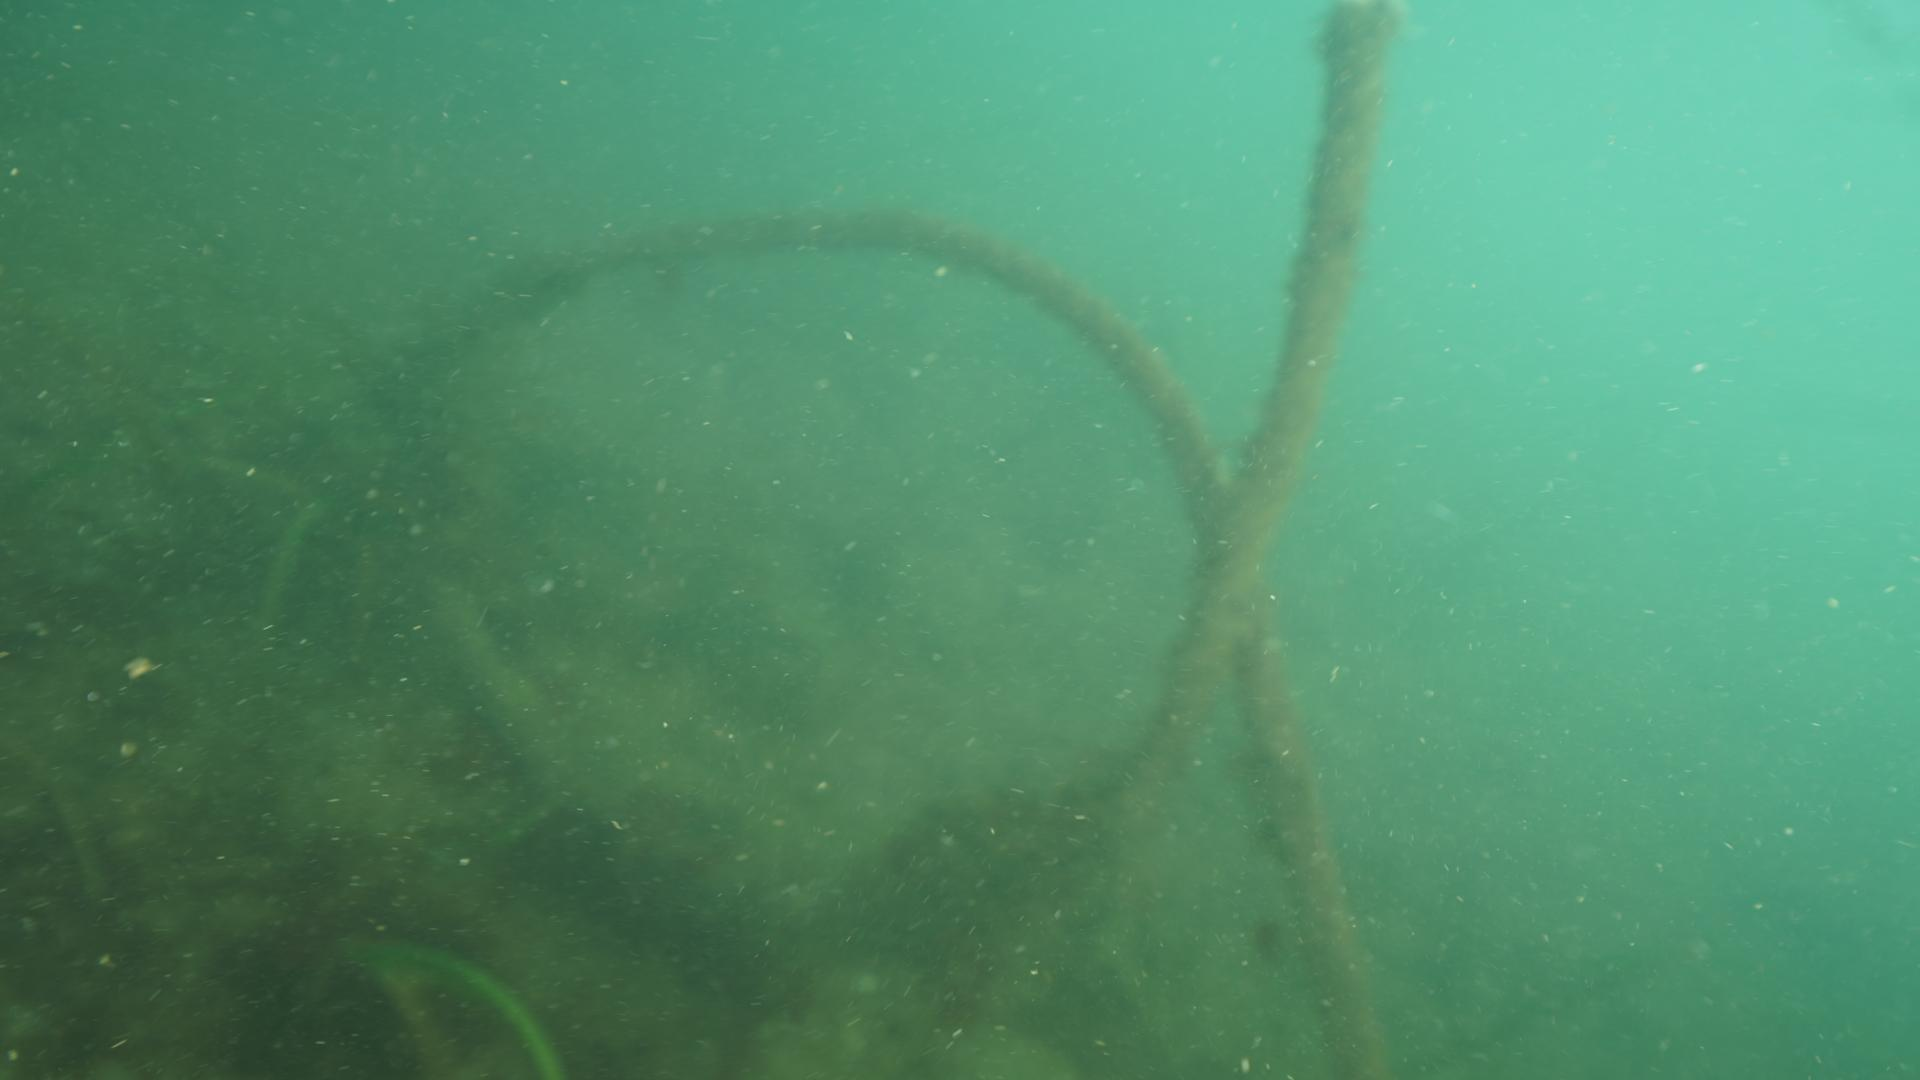rope: (301, 5, 1390, 1080)
